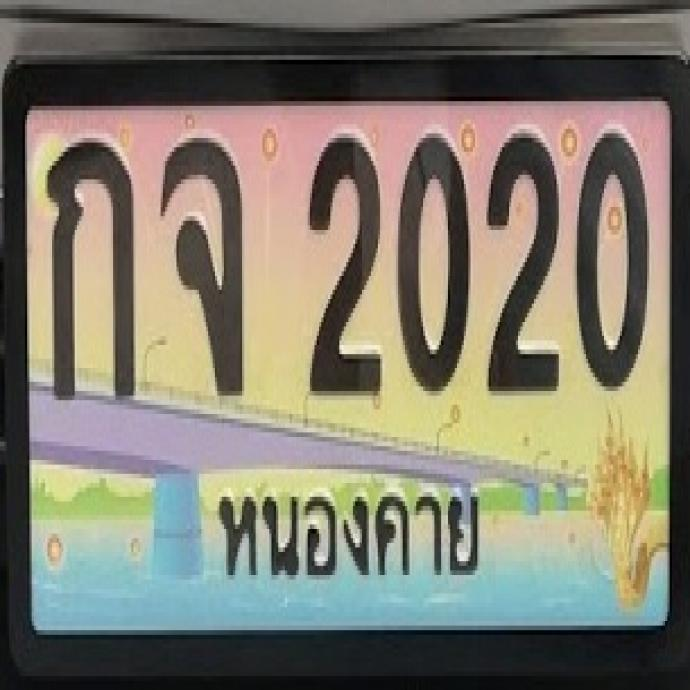0: (396, 129, 468, 389), (574, 128, 646, 387)
2: (485, 129, 558, 389), (307, 133, 380, 392)
A01: (45, 135, 133, 395)
A08: (159, 133, 242, 390)
NKI: (206, 460, 492, 604)
